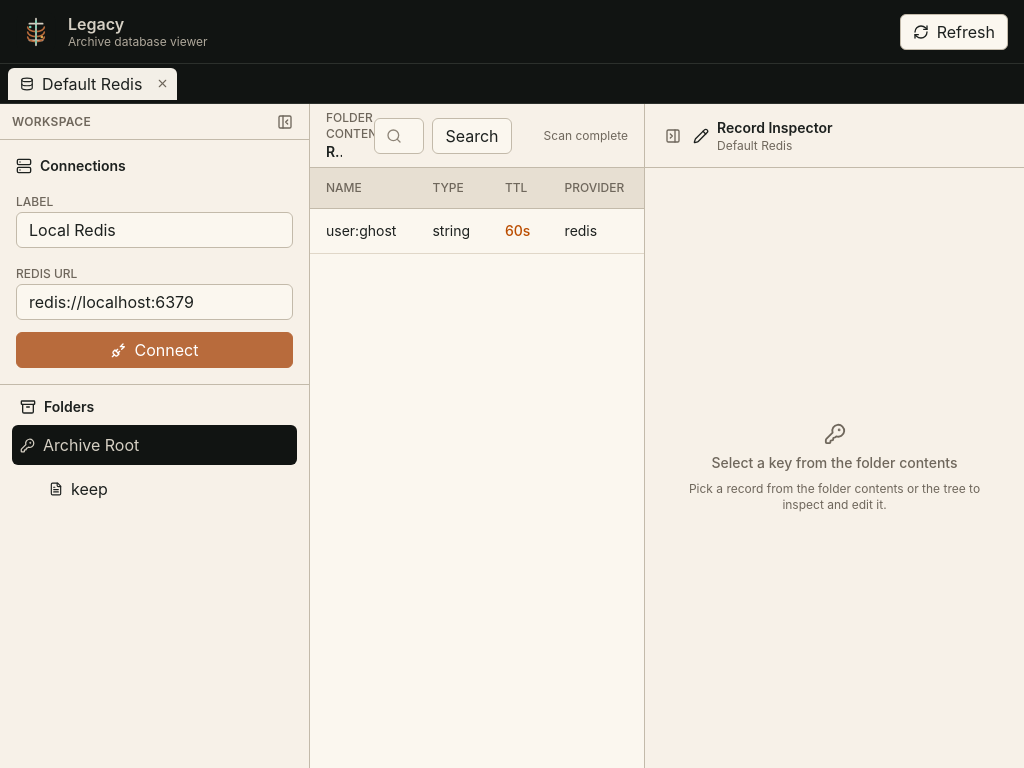
Scenario: DatabaseWorkbench › removes a vanished key from the table with a localized notice
The width and height of the screenshot is (1024, 768).
Click the button with aria-label "inspect user:ghost": [363, 231] box 310,209 -> 416,253
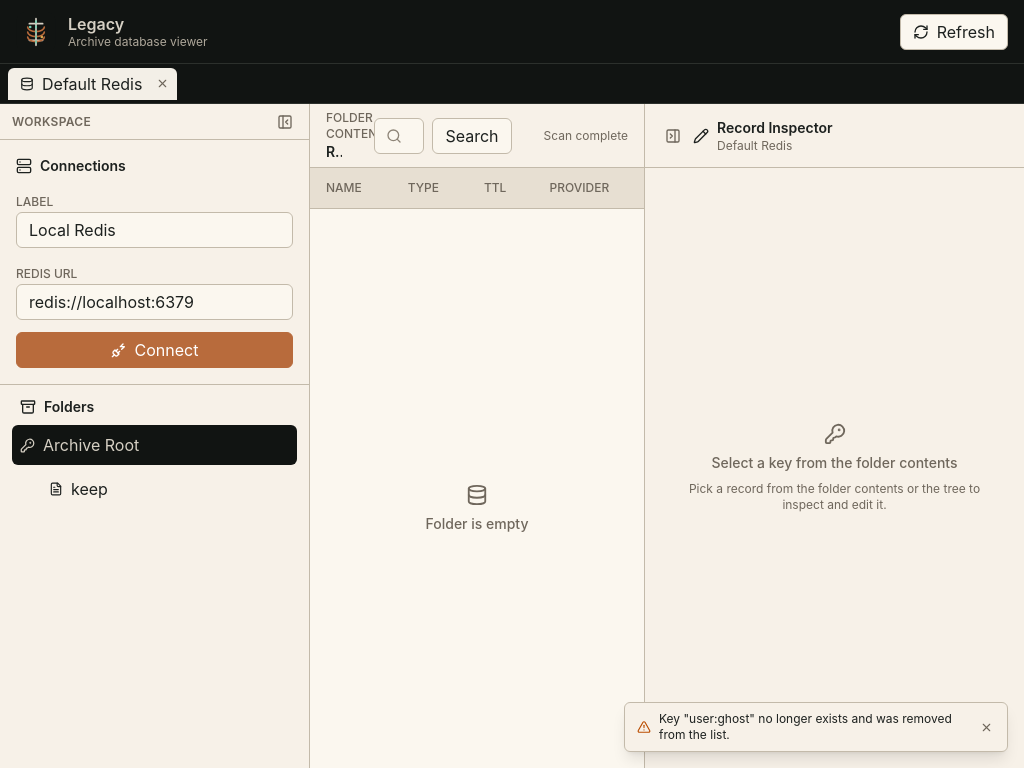
expect the button with aria-label "Open record user:keep" is shown: met, box 20,469 -> 297,509
expect the text "Key \"user:ghost\" no longer exists and was removed from the list." is shown: met, box 659,711 -> 970,743
Click the button named "Dismiss stale key notice": [986, 727] box 978,718 -> 995,736
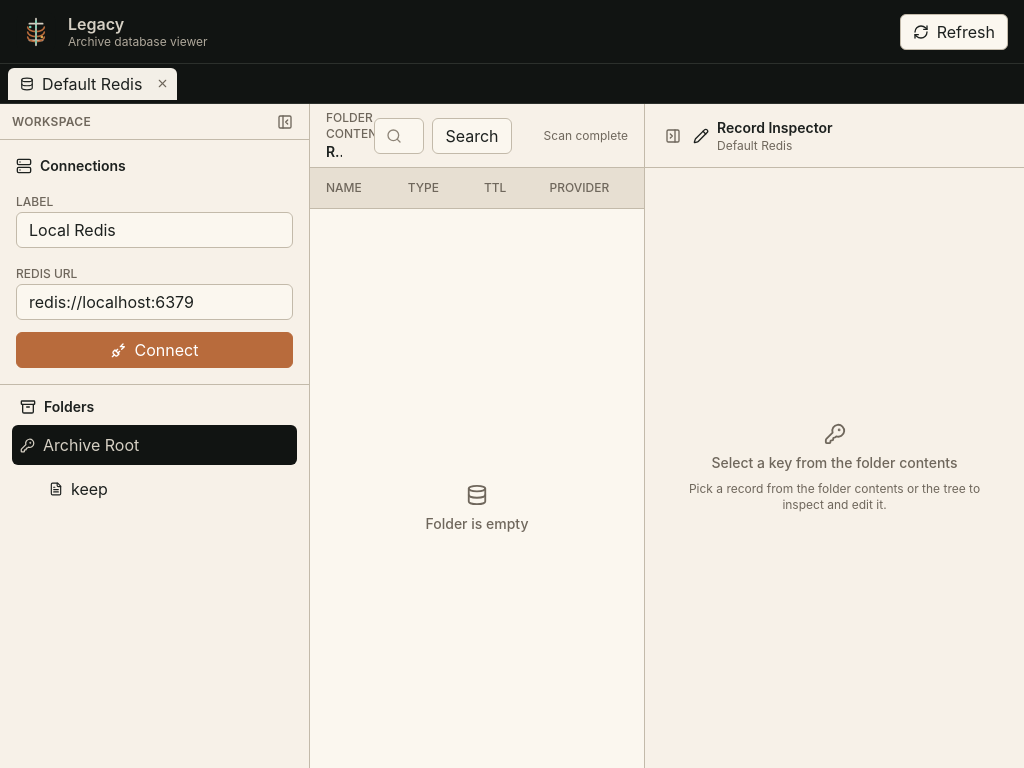
expect the message "Key \"user:ghost\" no longer exists and was removed from the list." is gone: met
